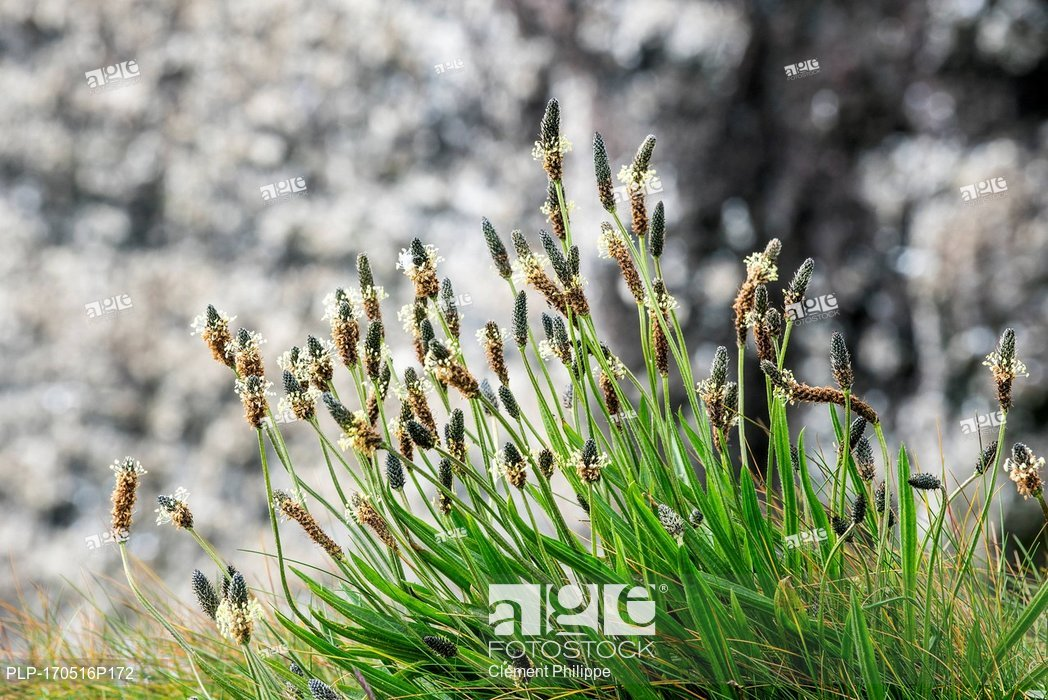buckhorn plantain: (91, 91, 1027, 700)
